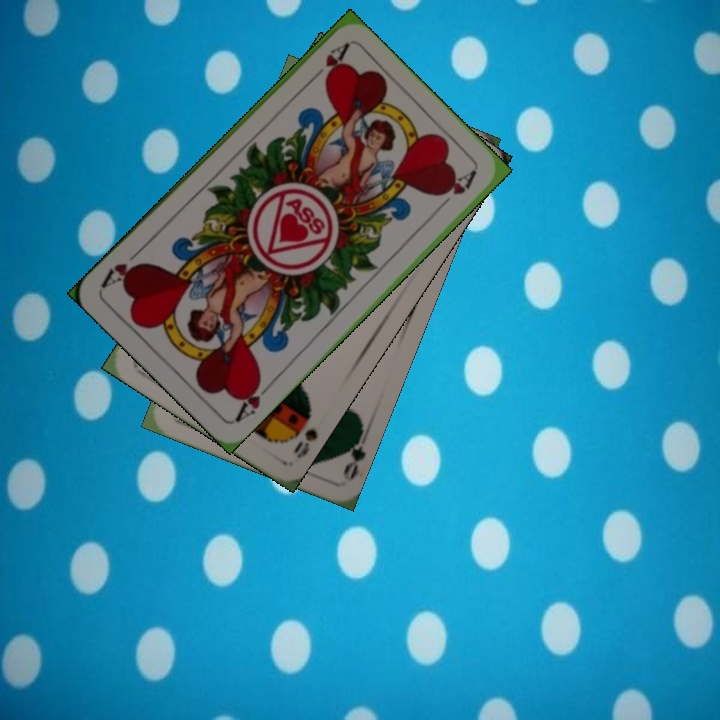GO: (337, 423, 367, 482)
HA: (231, 374, 277, 425), (303, 40, 351, 87)
SO: (286, 404, 320, 461)
